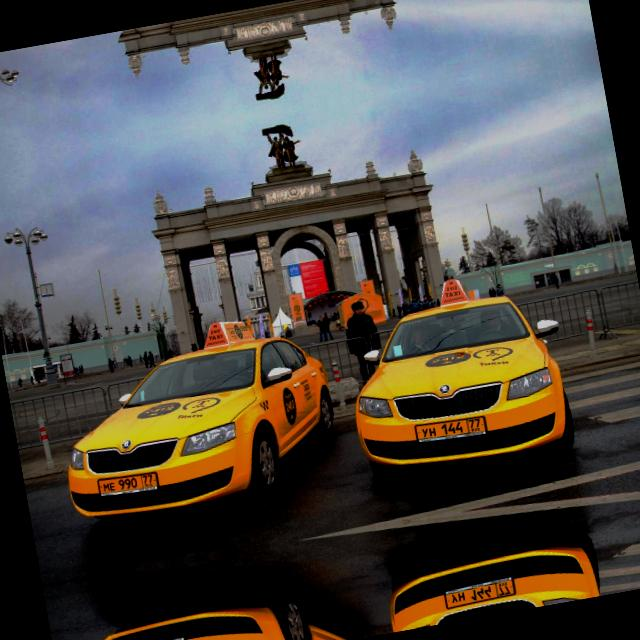taxi: (438, 566, 523, 614), (410, 406, 494, 454), (93, 462, 164, 503), (122, 630, 193, 640)
